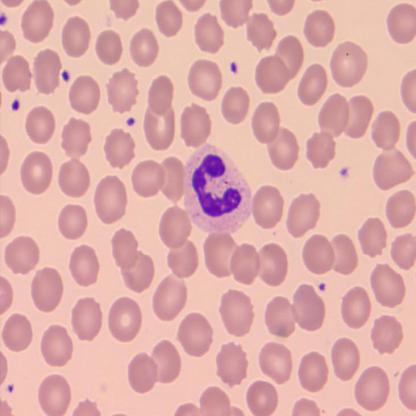Segmented neutrophil: (183, 141, 252, 236)
